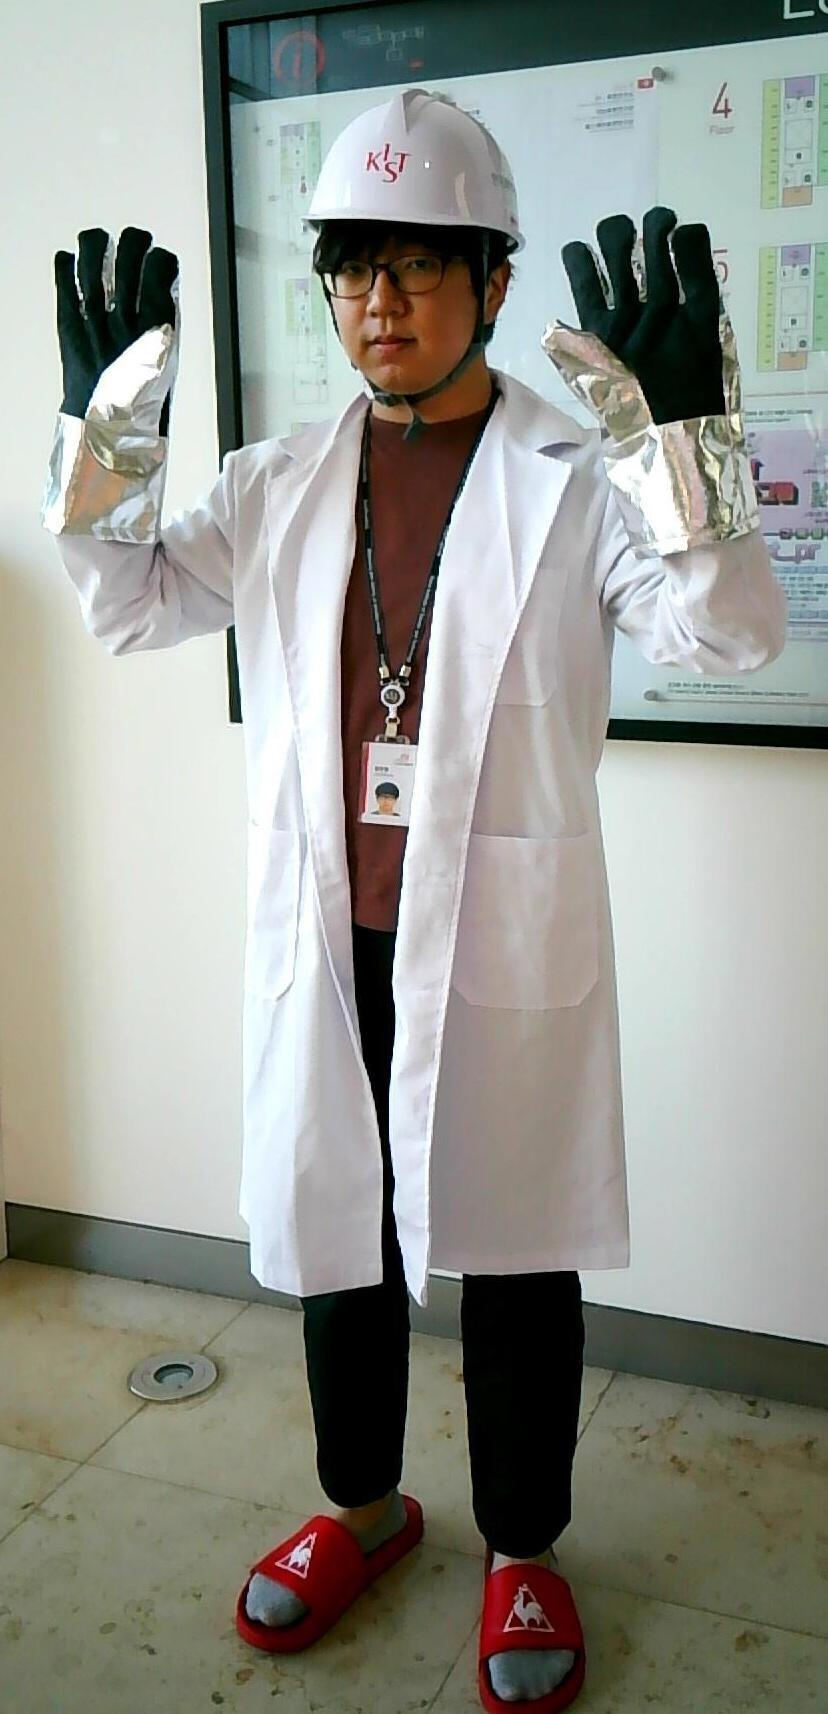lab_coat: (215, 431, 607, 1270)
